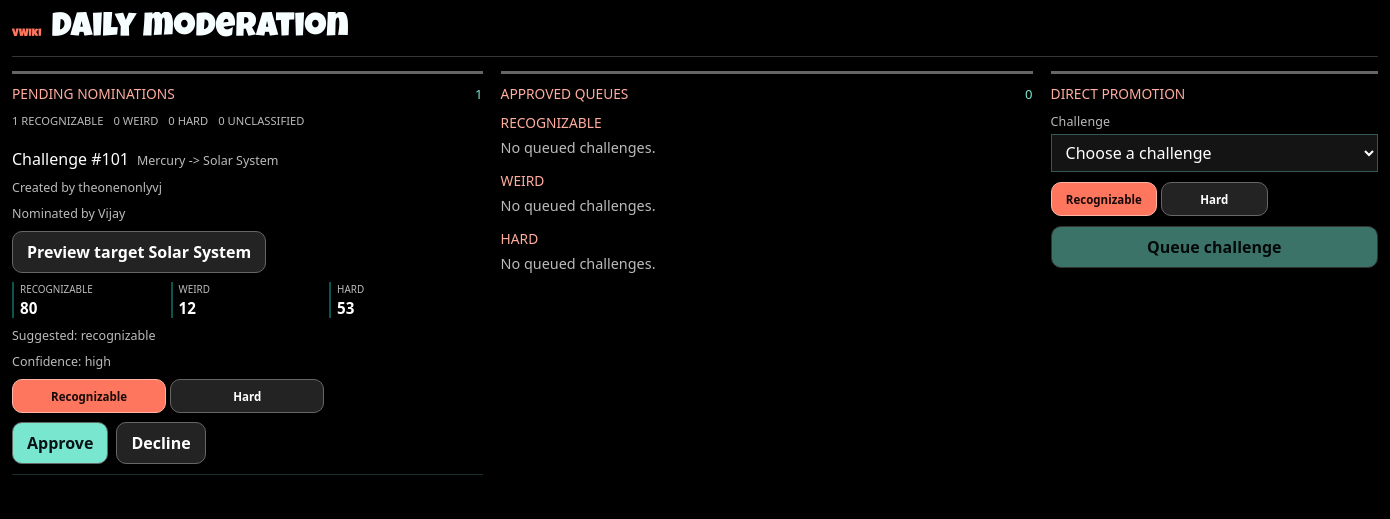
AdminDailies › announces an unavailable target preview
Click the button "Preview target Solar System" at (139, 252), box [12,231,266,273]
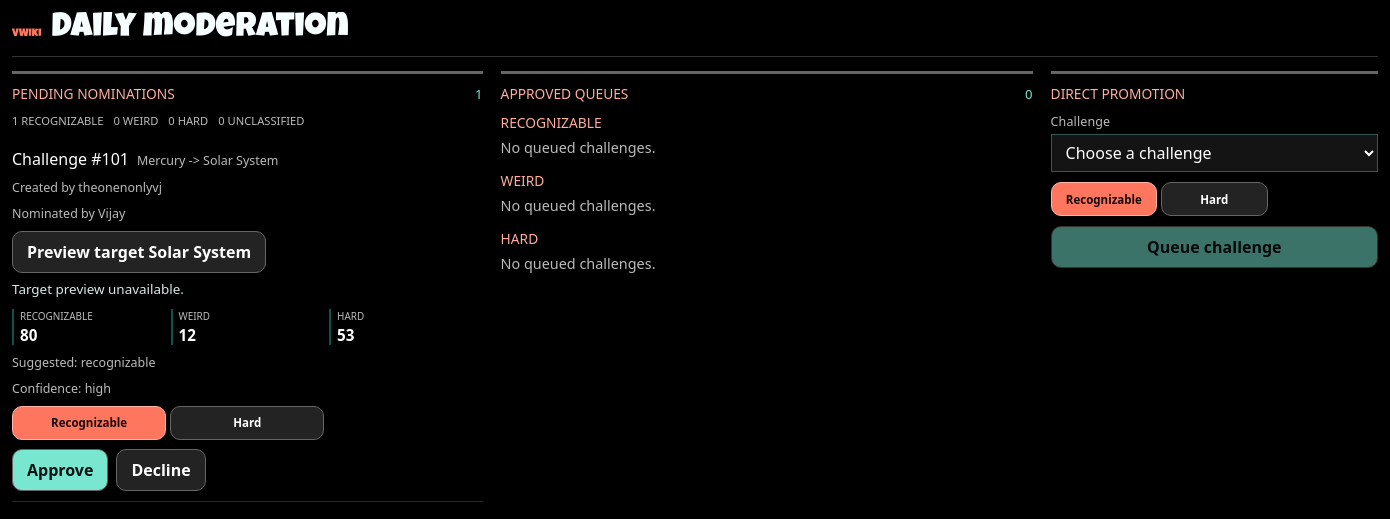
Now the message reads "Target preview unavailable.", box [12,280,184,298]
